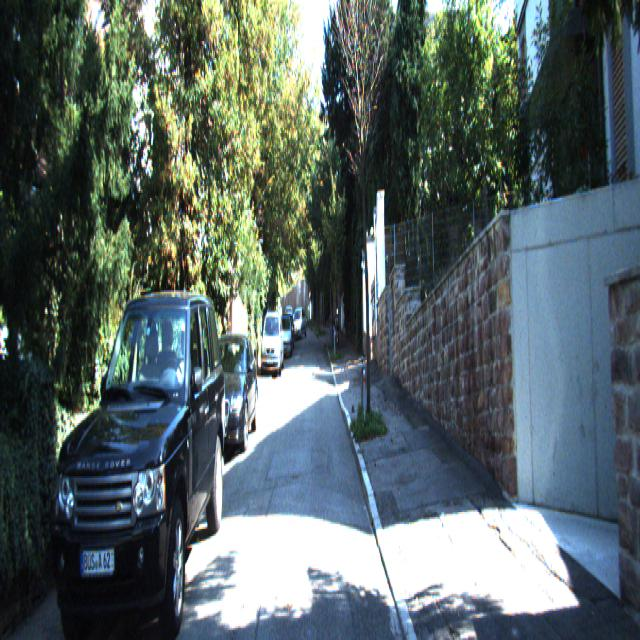Car: (40, 263, 227, 638), (199, 326, 258, 462), (261, 312, 284, 382), (278, 316, 292, 362), (290, 309, 307, 343)
